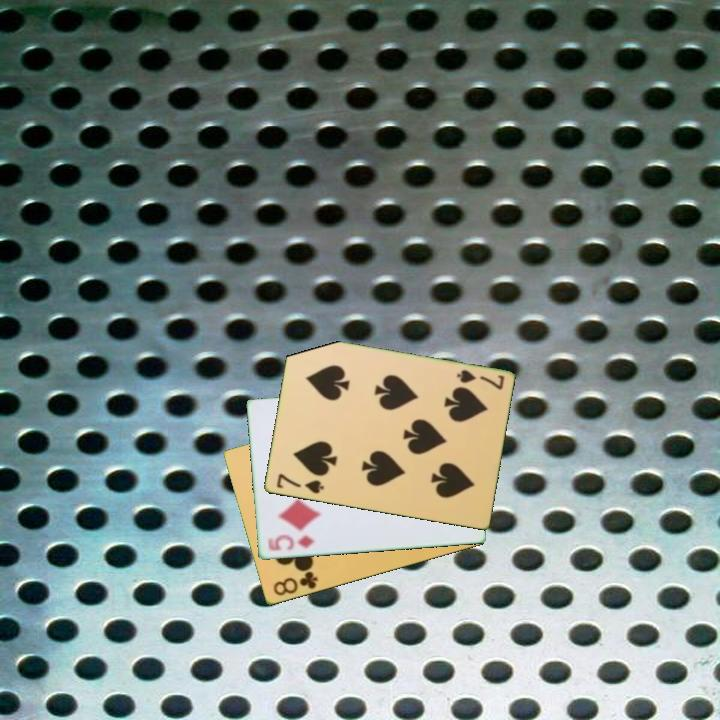5d: (264, 532, 318, 554)
7s: (273, 470, 327, 497), (453, 366, 507, 393)
8c: (270, 568, 321, 599)
